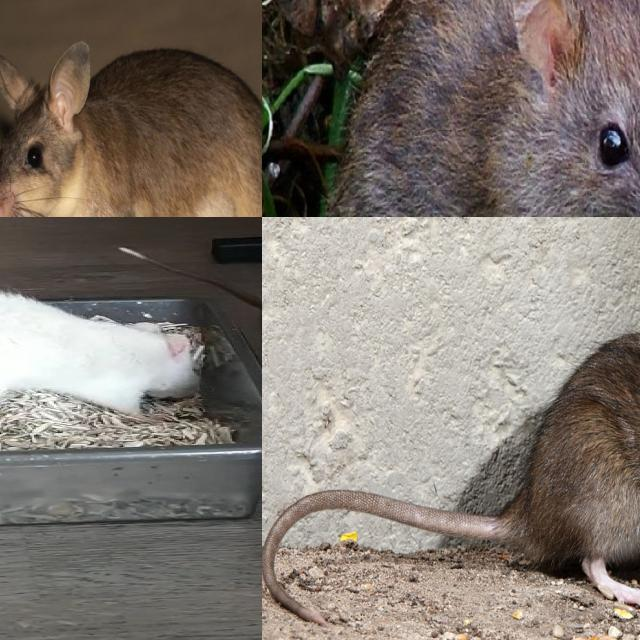rat: (405, 316, 640, 618), (327, 0, 640, 217), (0, 38, 262, 217), (0, 290, 201, 424)
